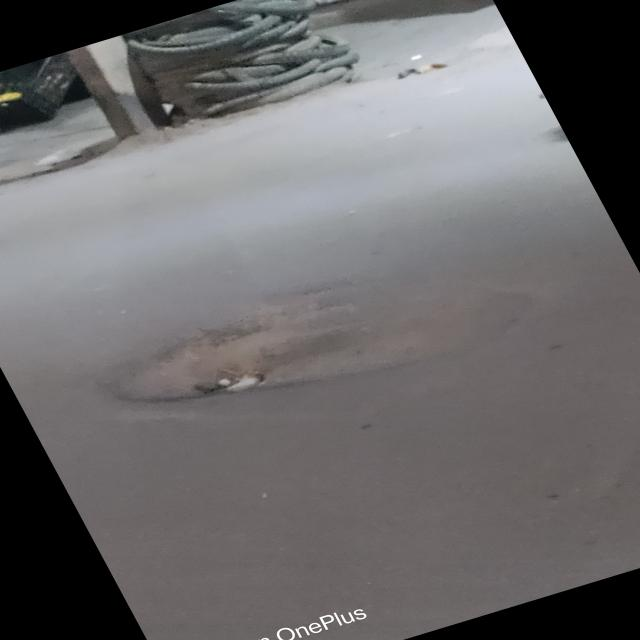potholes: (110, 315, 398, 420)
